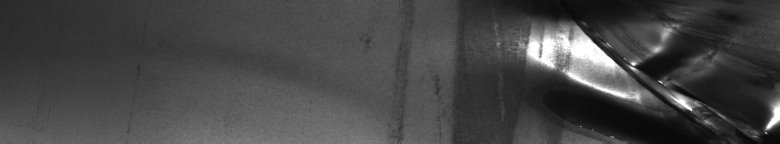ke: (497, 16, 776, 136)
